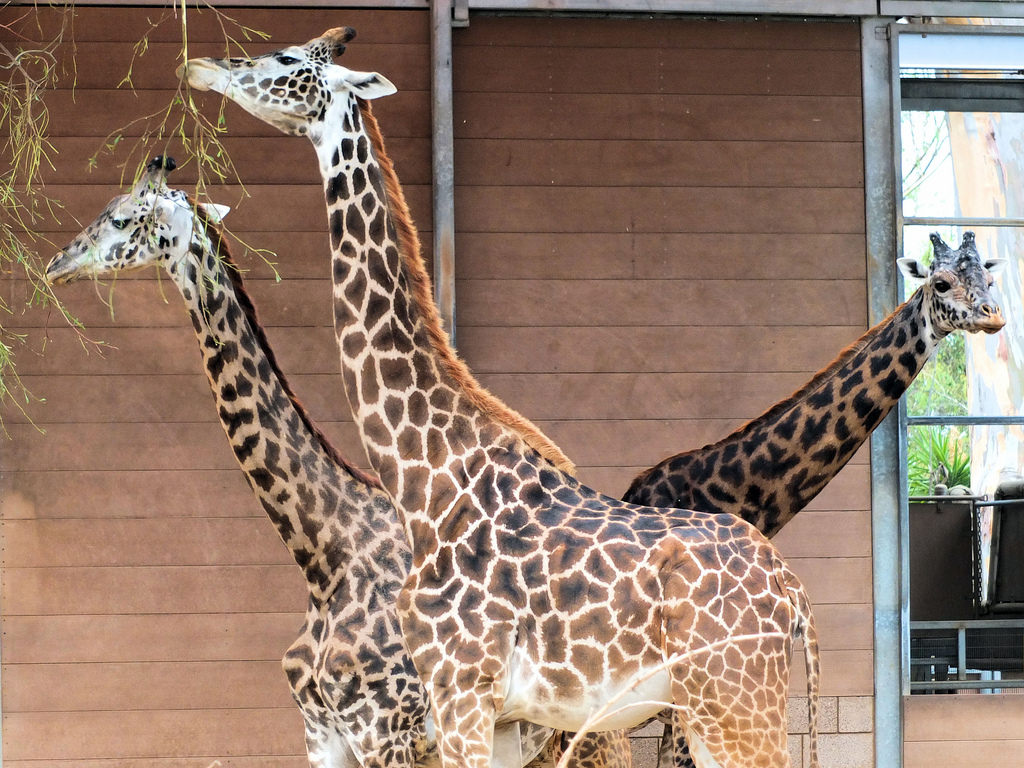giraffe: (179, 23, 790, 742), (44, 155, 423, 741), (655, 226, 999, 537)
